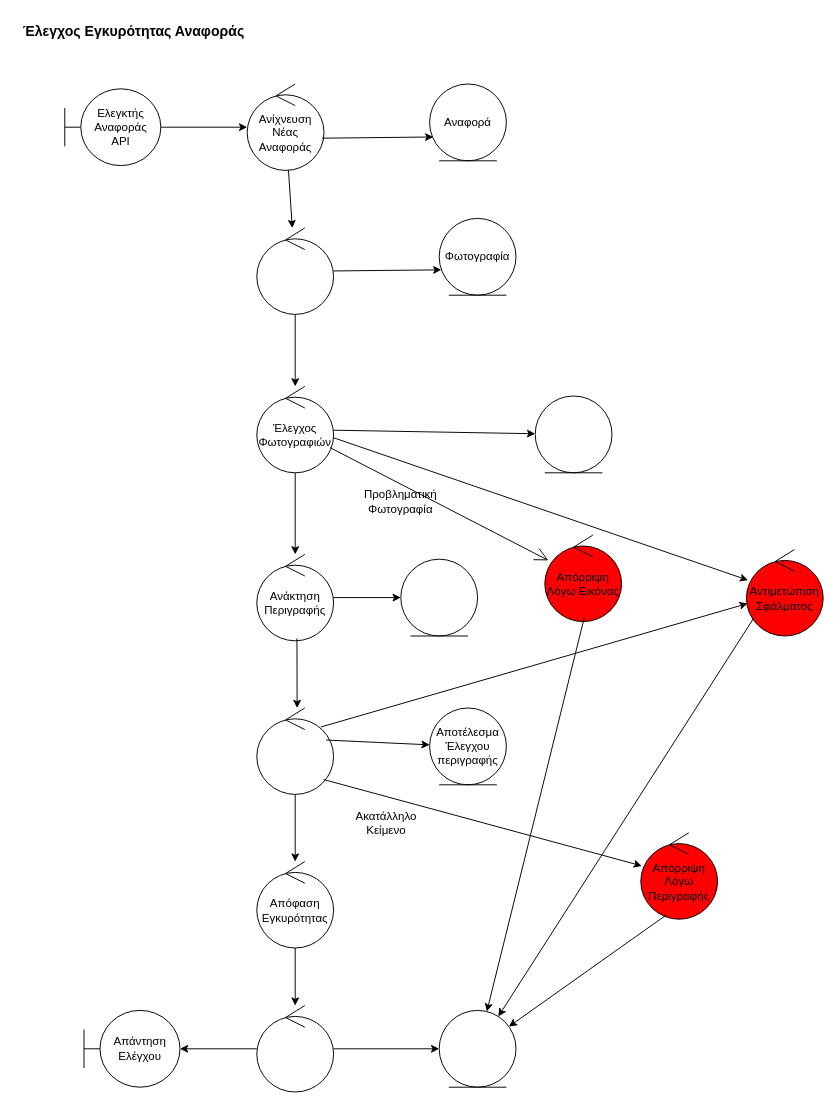
This 840x1109 diagram has some shape labels left out. The shapes that lost their labels are listed below. From the top down, each one's box as (x1, y1, x2, y2) in pixels, then its label:
(256, 227, 334, 314): Ανάκτηση Φωτογραφιών
(534, 395, 612, 473): Αποτέλεσμα Έλεγχου φωτογραφίας
(400, 558, 478, 636): Περιγραφή
(256, 707, 334, 794): Έλεγχος Περιγραφής
(256, 1005, 334, 1092): Καταχώρηση Απόφασης και Ενημέρωση
(438, 1009, 516, 1087): Κατάσταση Αναφοράς
